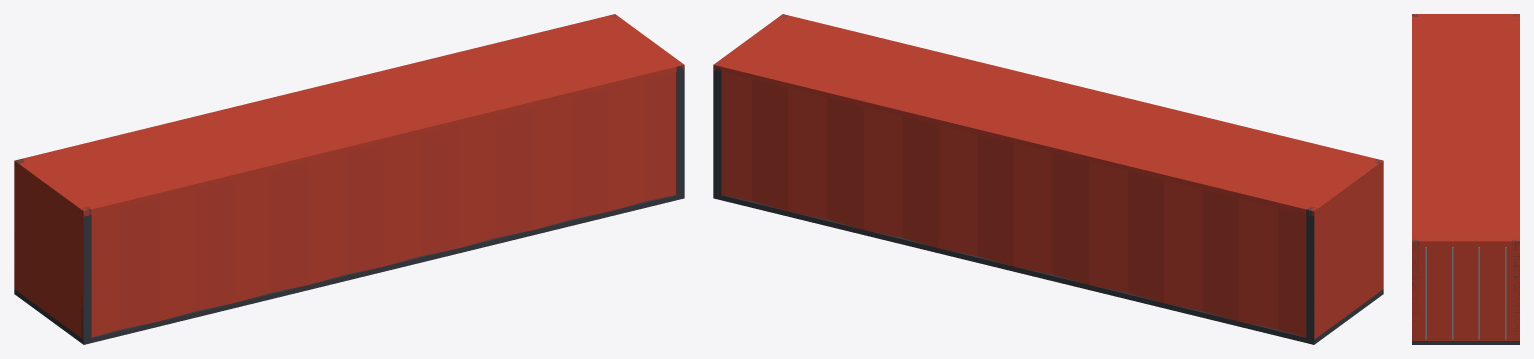
File: container.glb
3 views of the same model, side by side, from view 1: azimuth 30°, elevation 25°; view 2: azimuth 150°, elevation 25°; view 3: azimuth 270°, elevation 25° (orthographic). The views are drawn at different scales.
Parts seen in each view (by area): view 1: container; view 2: container; view 3: container.
Part boxes in pixels (bbox=[...]): container: bbox=[14, 14, 684, 344]; container: bbox=[713, 14, 1383, 344]; container: bbox=[1412, 14, 1519, 344].
Size of the model in its own units: 12.23 by 2.59 by 2.44.
